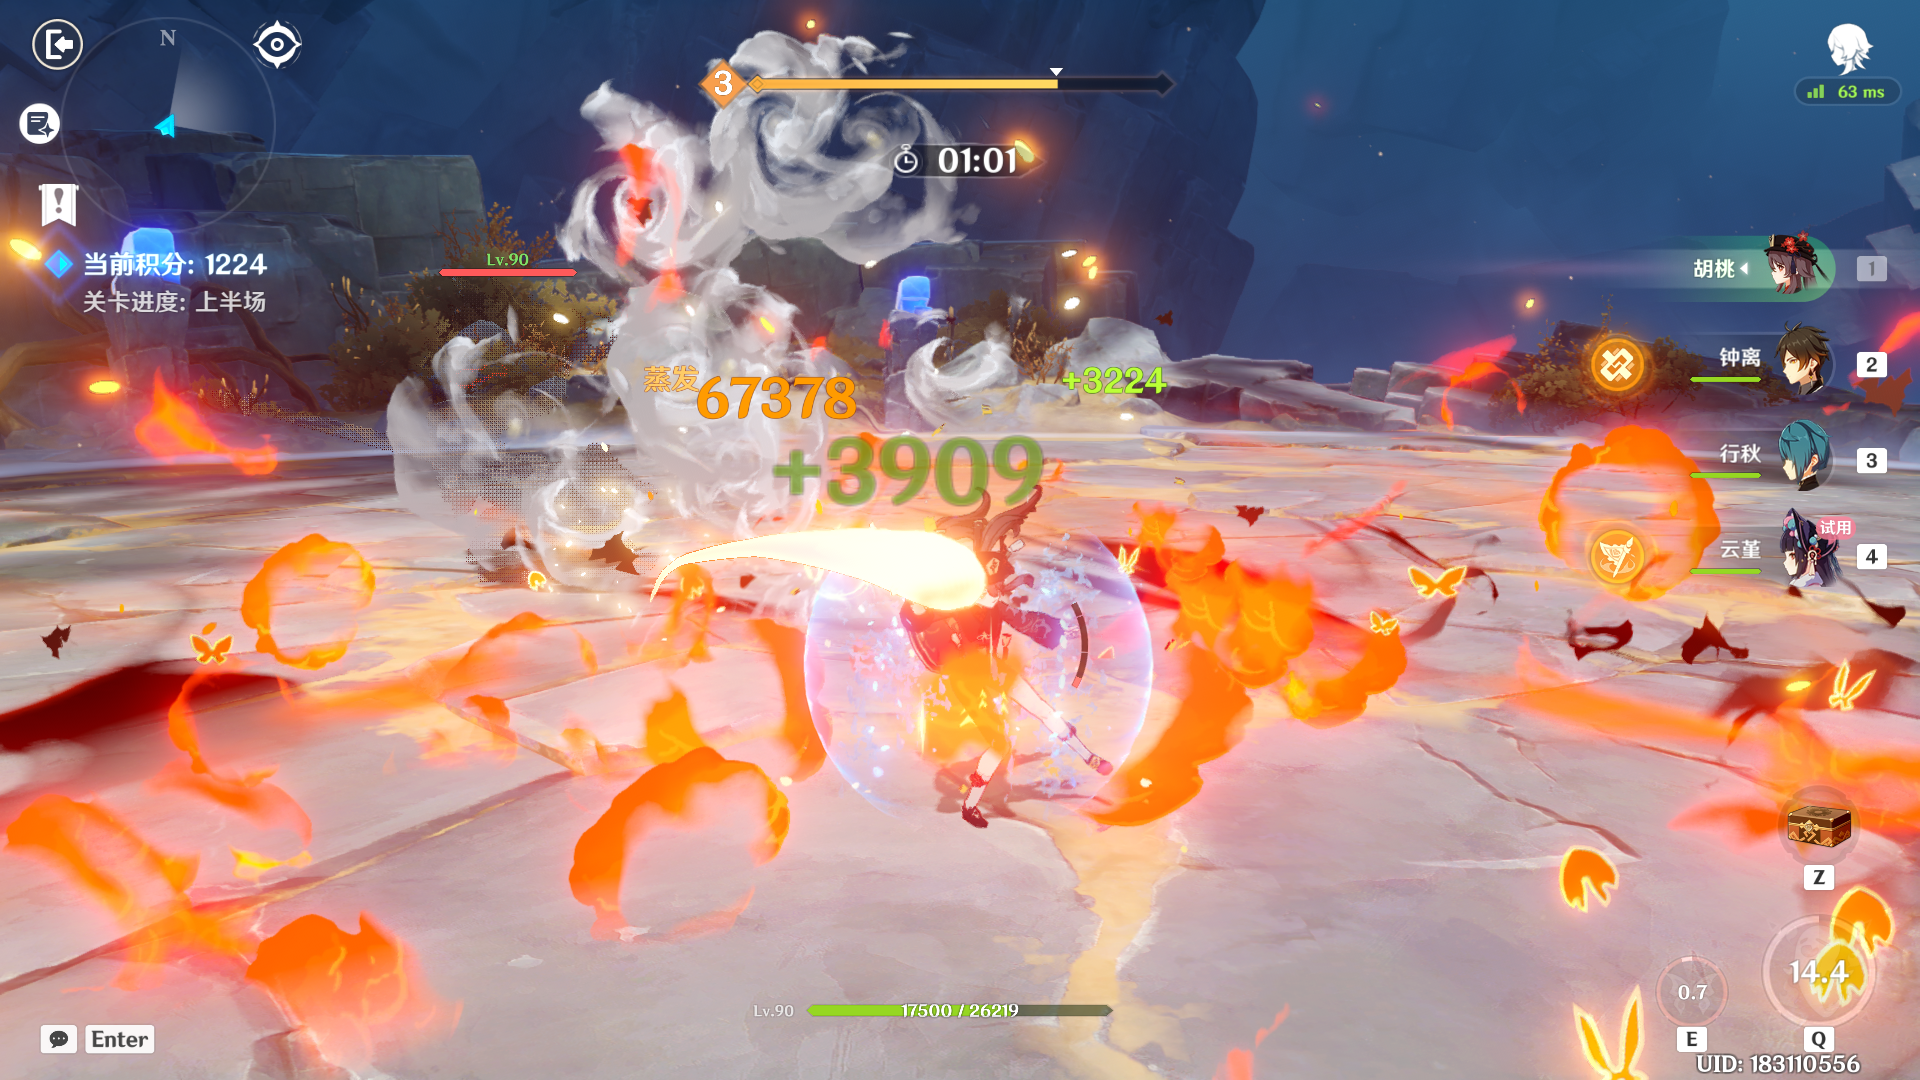character: (891, 502, 1139, 849)
